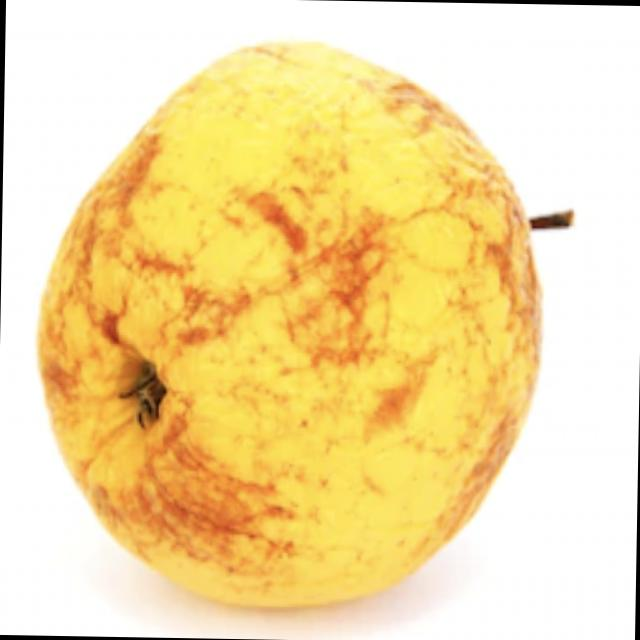rotten_apple: (32, 39, 570, 616)
